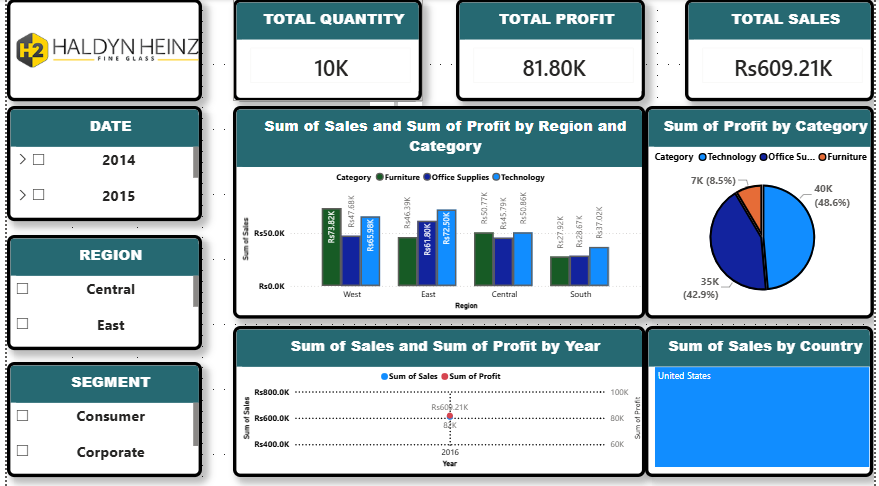

The page's visual inventory and layout, read from the dashboard file:
{"tool":"powerbi","page":{"name":" Sales overview","canvas":[1280,720],"ordinal":1},"visuals":[{"type":"image","box":[0,0,288,150.9],"z":0},{"type":"cardVisual","title":"TOTAL SALES","fields":{"Data":["Sum(Orders.Sales)"]},"box":[1001.1,0,279.4,150.9],"z":1000},{"type":"cardVisual","title":"TOTAL PROFIT","fields":{"Data":["Sum(Orders.Profit)"]},"box":[663.4,0,279.4,150.9],"z":2000},{"type":"cardVisual","title":"TOTAL QUANTITY","fields":{"Data":["Sum(Orders.Quantity)"]},"box":[334.3,0,279.4,150.9],"z":3000},{"type":"listSlicer","title":"DATE","fields":{"Values":["Orders.Order Date.Variation.Date Hierarchy.Year","Orders.Order Date.Variation.Date Hierarchy.Quarter","Orders.Order Date.Variation.Date Hierarchy.Month","Orders.Order Date.Variation.Date Hierarchy.Day"]},"box":[0,157.7,288,169.7],"z":4000},{"type":"listSlicer","title":"REGION","fields":{"Values":["Orders.Region"]},"box":[0,348,288,169.7],"z":5000},{"type":"listSlicer","title":"SEGMENT","fields":{"Values":["Orders.Segment"]},"box":[0,536.6,288,169.7],"z":6000},{"type":"clusteredColumnChart","fields":{"Category":["Orders.Region"],"Series":["Orders.Category"],"Y":["Sum(Orders.Sales)"]},"box":[334.3,157.7,608.6,313.7],"z":7000},{"type":"pieChart","fields":{"Category":["Orders.Category"],"Y":["Sum(Orders.Profit)"]},"box":[942.9,157.7,337.7,313.7],"z":8000},{"type":"lineChart","fields":{"Category":["Orders.Order Date.Variation.Date Hierarchy.Year","Orders.Order Date.Variation.Date Hierarchy.Quarter","Orders.Order Date.Variation.Date Hierarchy.Month","Orders.Order Date.Variation.Date Hierarchy.Day"],"Y":["Sum(Orders.Sales)"],"Y2":["Sum(Orders.Profit)"]},"box":[334.3,483.4,608.6,222.9],"z":9000},{"type":"treemap","fields":{"Details":["Orders.Country"],"Values":["Sum(Orders.Sales)"]},"box":[943,483,337,223],"z":10000}]}

Visuals, with their boxes in screenshot pixels (x1, y1, x2, y2), scaled from the page's 1280x720 canvas onto the 879x486 screenshot:
image: locate(0, 0, 198, 102)
"TOTAL SALES" cardVisual: locate(687, 0, 878, 102)
"TOTAL PROFIT" cardVisual: locate(456, 0, 647, 102)
"TOTAL QUANTITY" cardVisual: locate(230, 0, 421, 102)
"DATE" listSlicer: locate(0, 106, 198, 221)
"REGION" listSlicer: locate(0, 235, 198, 349)
"SEGMENT" listSlicer: locate(0, 362, 198, 477)
clusteredColumnChart - Orders.Region x Orders.Category: locate(230, 106, 648, 318)
pieChart - Orders.Category x Sum(Orders.Profit): locate(648, 106, 878, 318)
lineChart - Orders.Order Date.Variation.Date Hierarchy.Year x Orders.Order Date.Variation.Date Hierarchy.Quarter: locate(230, 326, 648, 477)
treemap - Orders.Country x Sum(Orders.Sales): locate(648, 326, 878, 477)
